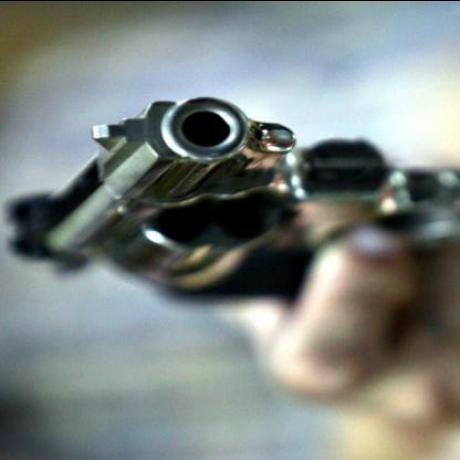weapon: (3, 89, 460, 323)
